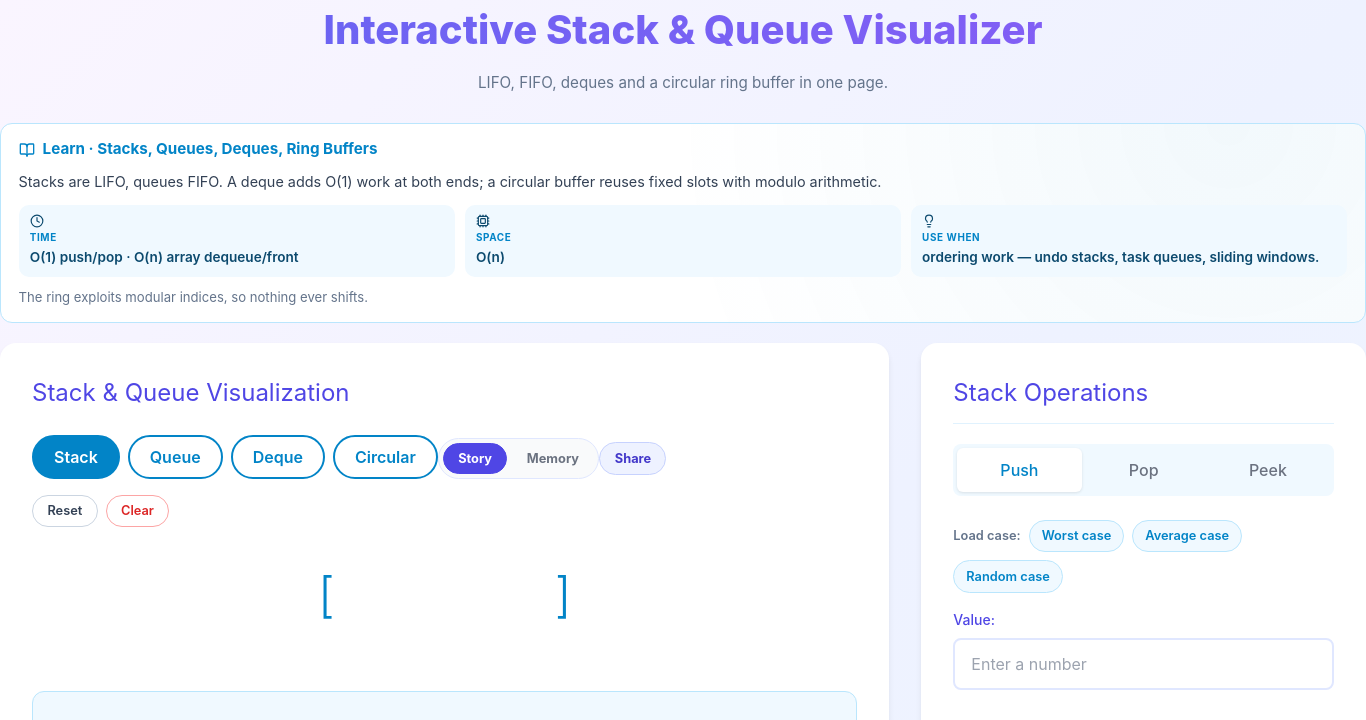
StackQueue › switching to queue swaps tabs, labels and structure toggle
Click the button "Queue": (175, 457) [128,435,223,479]
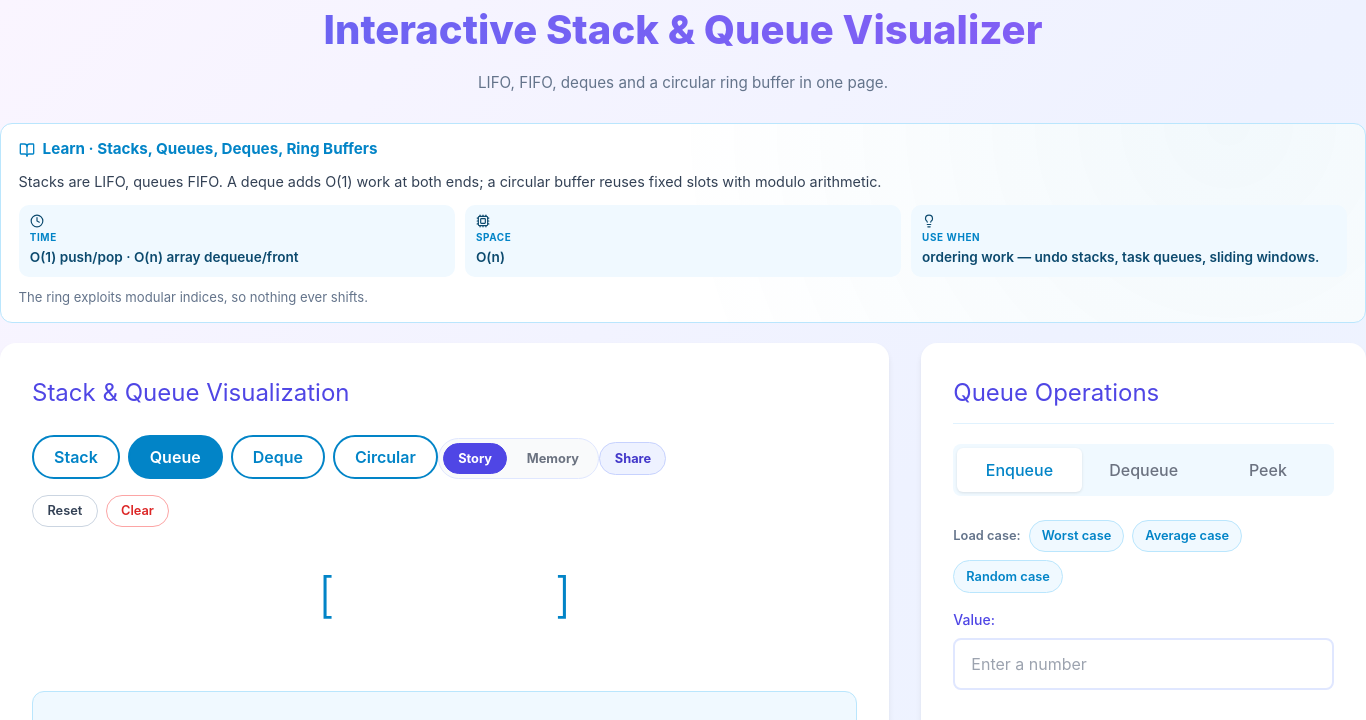
Check: the button "Queue" is pressed, box [128,435,223,479]
Click the button "Dequeue": (1144, 470) [1082,448,1206,492]
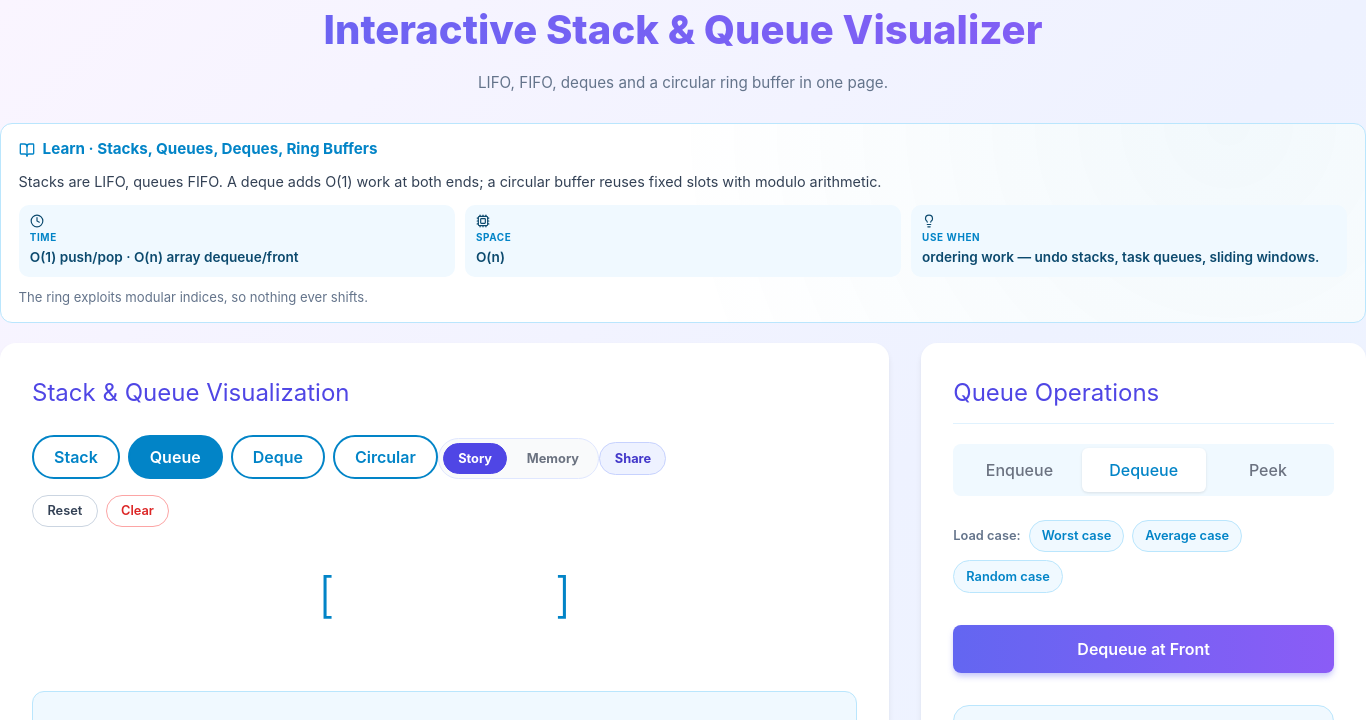
Check: the button "Dequeue at Front" is shown, box [953,625,1334,673]
Click the button "Peek": (1268, 470) [1206,448,1330,492]
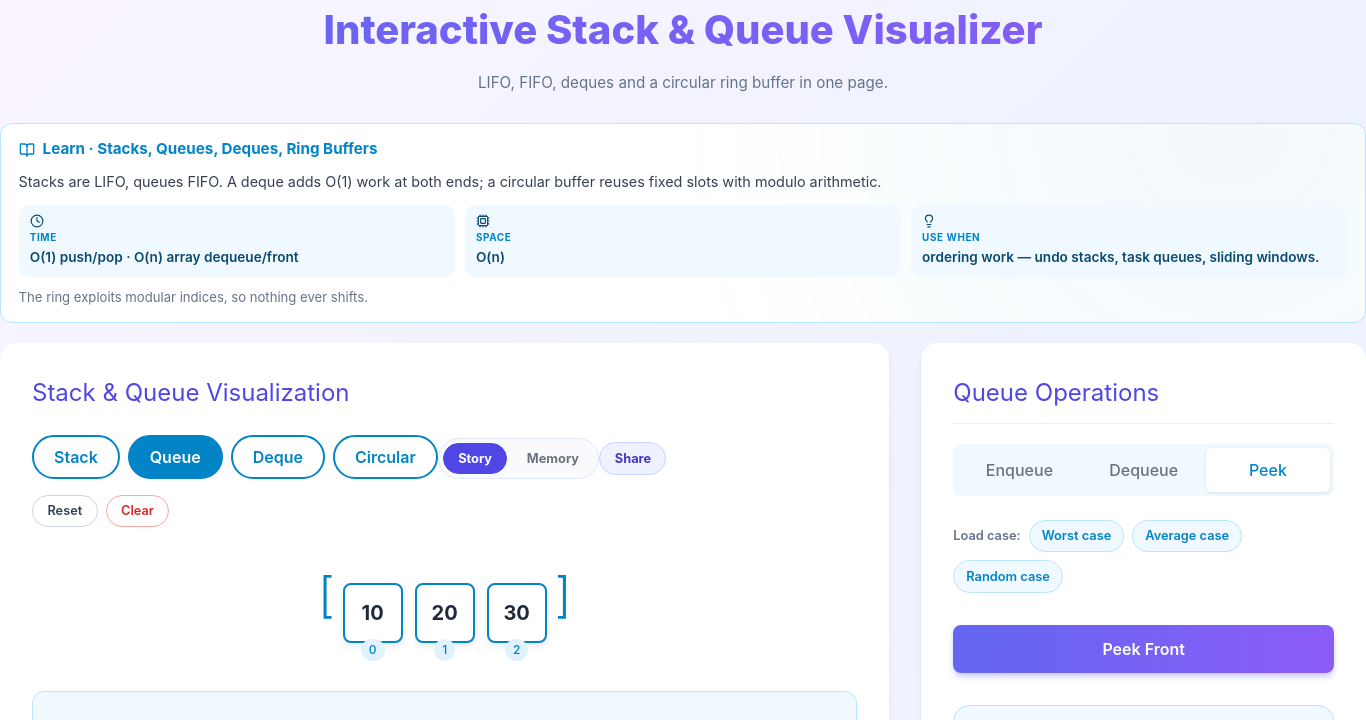
Check: the button "Push onto Stack" is not shown
Check: the button "Peek Front" is shown, box [953,625,1334,673]
